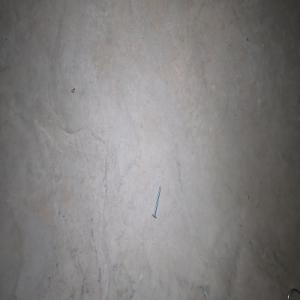Bolt: (151, 184, 161, 218)
